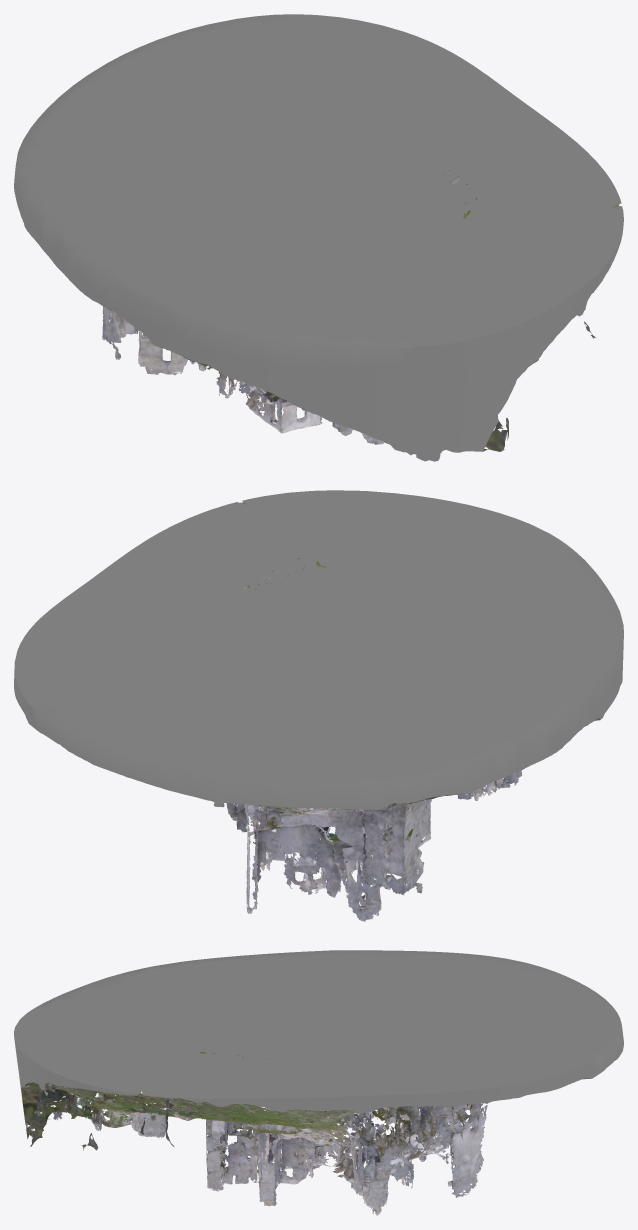
Rendered from castillo.fbx.
3 views of the same model, one above another, from view 1: azimuth 30°, elevation 25°; view 2: azimuth 150°, elevation 25°; view 3: azimuth 270°, elevation 25° (orthographic). The views are drawn at different scales.
Parts seen in each view (by area): view 1: Object_0; view 2: Object_0; view 3: Object_0.
Boxes of the visible parts, x1,y1,x2,y2 form: Object_0: (14,14,623,461); Object_0: (14,490,623,921); Object_0: (14,950,623,1215).
Size of the model in its own units: 0.1057 by 0.0532 by 0.1479.
